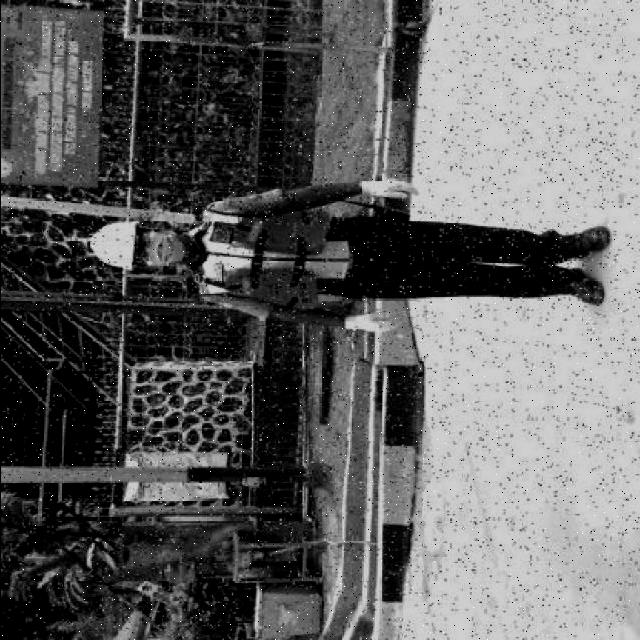Boots: (556, 264, 606, 307), (558, 224, 612, 261)
Helmet: (87, 218, 135, 270)
Vest: (189, 205, 357, 316)
